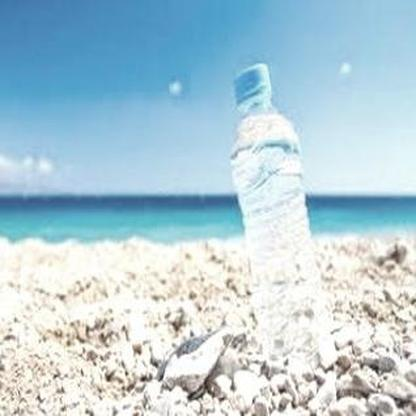plastic bottle: (228, 64, 331, 359)
